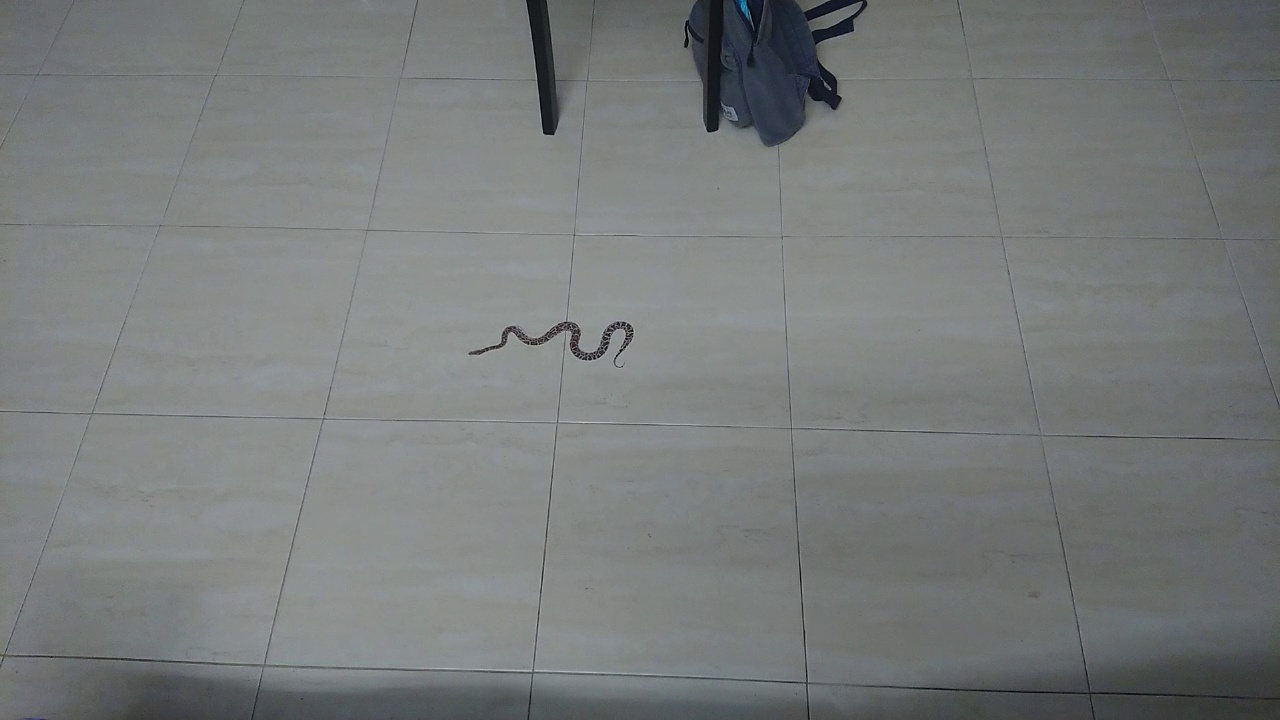snake: (453, 306, 651, 380)
